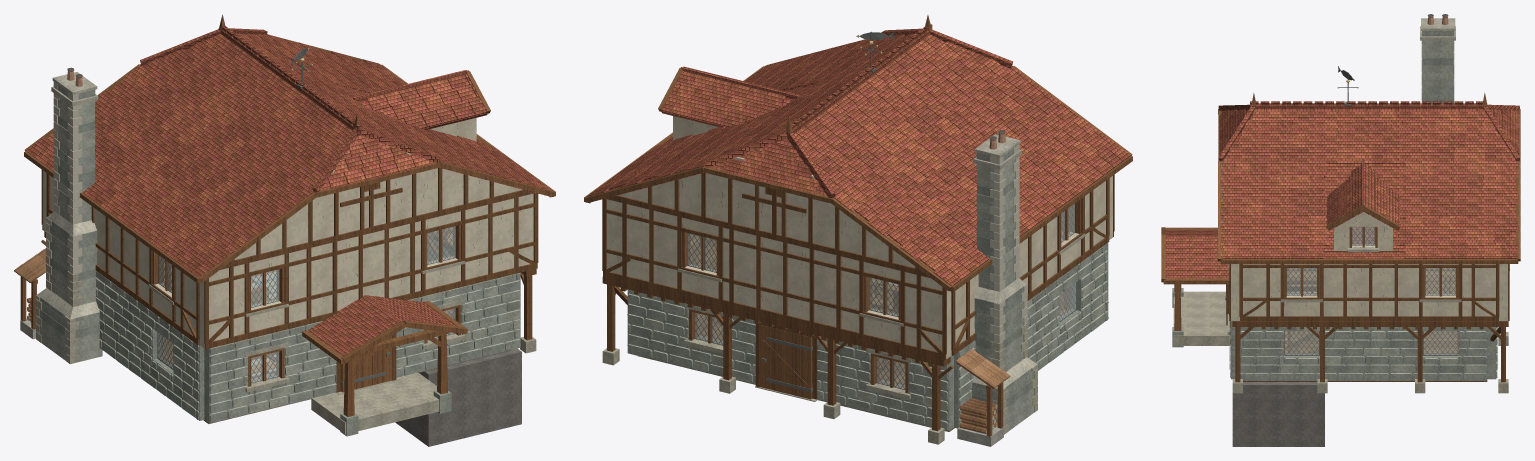
Rendered from holm_guide_house_oldschool_v2.glb.
The picture shows the model from 3 angles, left to right: view 1: azimuth 30°, elevation 25°; view 2: azimuth 150°, elevation 25°; view 3: azimuth 270°, elevation 25°; orthographic projection. The views are drawn at different scales.
Parts seen in each view (by area): view 1: Roof, GroundShell, UpperShell, Gable, CellarShell, UpperHearth, DoorSouthLeaf, UpperFurnishing; view 2: Roof, UpperShell, GroundShell, Gable, UpperHearth, DoorNorthLeaf, GroundFloor, UpperFloor; view 3: Roof, GroundShell, UpperShell, CellarShell, GroundFloor, UpperFloor, StairFlight.
Boxes of the visible parts, x1=… form: Roof: x1=24, y1=14, x2=555, y2=364; GroundShell: x1=14, y1=231, x2=536, y2=436; UpperShell: x1=41, y1=141, x2=538, y2=349; Gable: x1=231, y1=152, x2=522, y2=261; CellarShell: x1=395, y1=348, x2=521, y2=446; UpperHearth: x1=46, y1=186, x2=97, y2=274; DoorSouthLeaf: x1=340, y1=336, x2=392, y2=392; UpperFurnishing: x1=251, y1=227, x2=452, y2=303; Roof: x1=584, y1=15, x2=1132, y2=291; UpperShell: x1=602, y1=140, x2=1114, y2=359; GroundShell: x1=602, y1=243, x2=1108, y2=446; Gable: x1=618, y1=157, x2=918, y2=269; UpperHearth: x1=974, y1=252, x2=1027, y2=343; DoorNorthLeaf: x1=760, y1=325, x2=812, y2=399; GroundFloor: x1=638, y1=310, x2=1065, y2=431; UpperFloor: x1=690, y1=231, x2=1062, y2=308; Roof: x1=1161, y1=14, x2=1520, y2=284; GroundShell: x1=1172, y1=284, x2=1508, y2=393; UpperShell: x1=1228, y1=251, x2=1509, y2=321; CellarShell: x1=1232, y1=382, x2=1324, y2=446; GroundFloor: x1=1243, y1=331, x2=1487, y2=381; UpperFloor: x1=1289, y1=268, x2=1455, y2=292; StairFlight: x1=1287, y1=331, x2=1318, y2=352.
Size of the model in its own units: 14.77 by 13.36 by 14.02.
36 materials, 17 textured.
